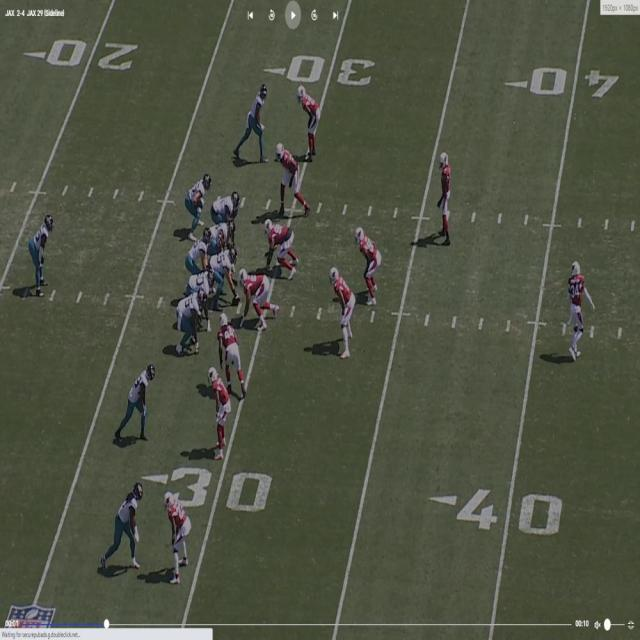center: (219, 241, 238, 287)
db: (209, 365, 233, 461), (565, 258, 588, 354), (166, 488, 188, 572), (298, 85, 320, 154), (439, 150, 454, 240), (33, 217, 51, 282)
lb: (331, 262, 356, 360), (354, 226, 384, 304)
qb: (186, 228, 212, 270)
skill: (116, 482, 144, 577), (242, 82, 271, 150), (128, 365, 154, 435), (186, 173, 211, 224)
